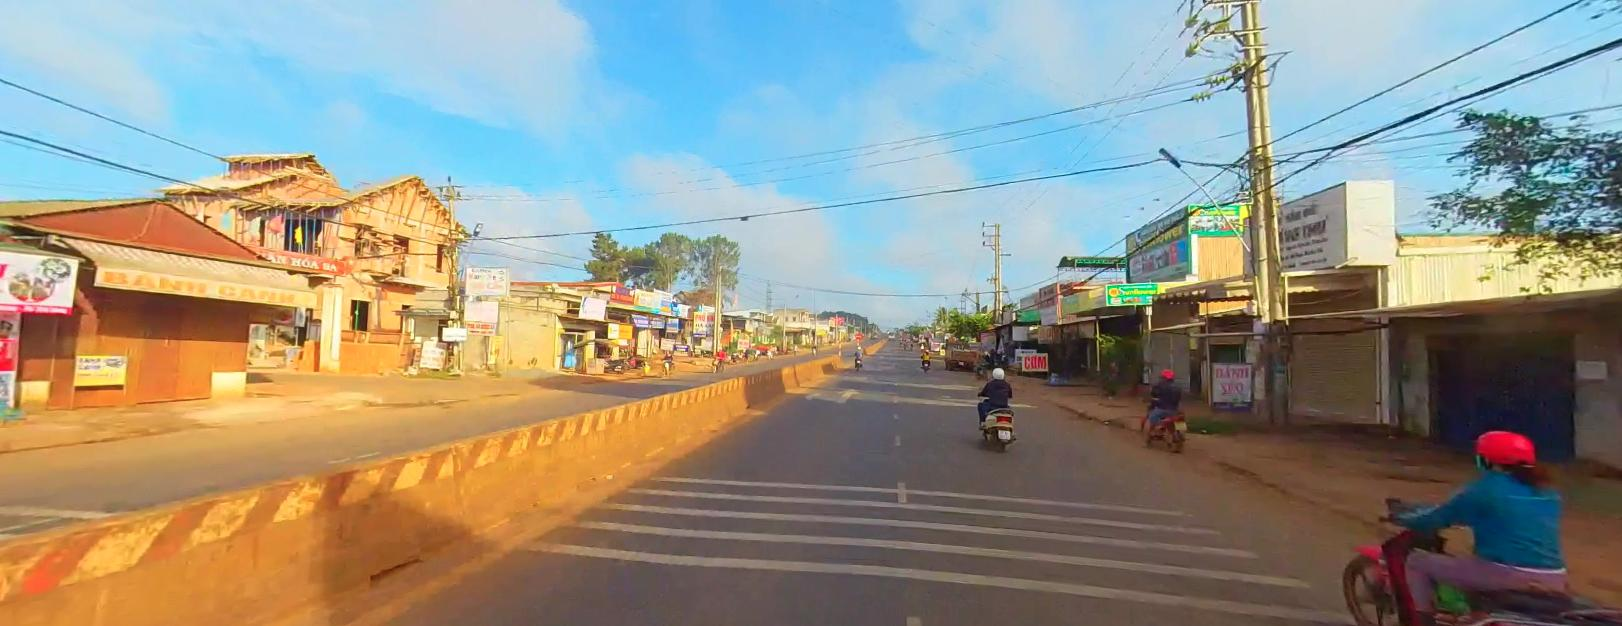Cam nguoc chieu: (855, 332, 862, 337), (855, 331, 861, 336)
